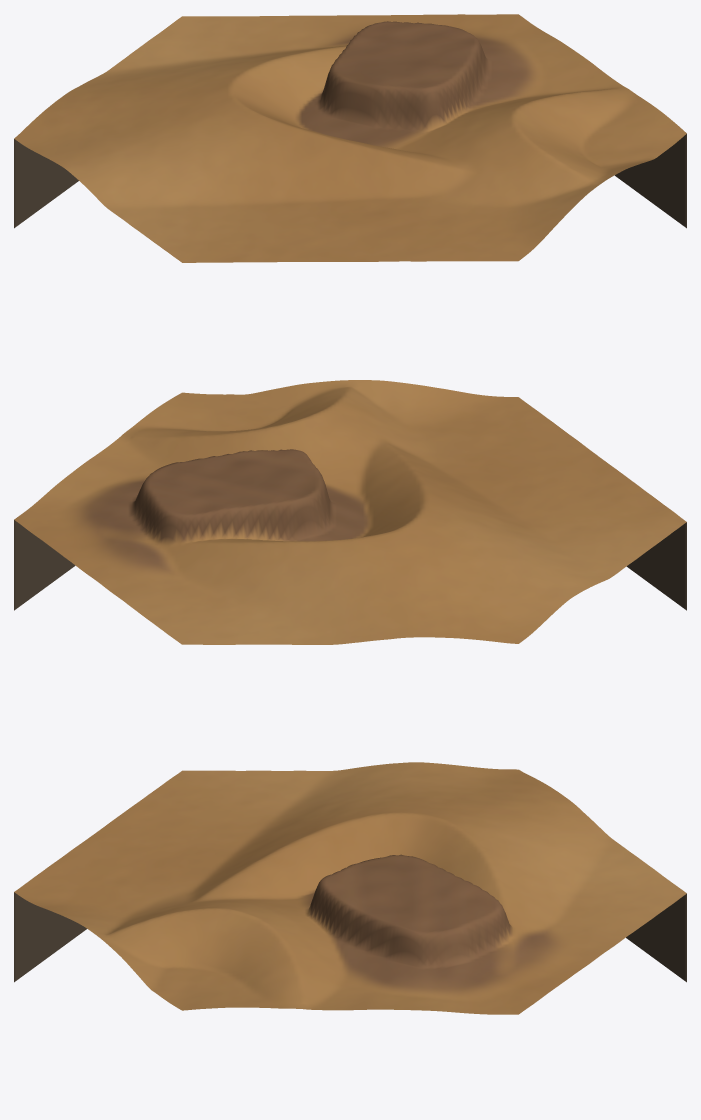
3 views of the same model, one above another, from view 1: azimuth 30°, elevation 25°; view 2: azimuth 150°, elevation 25°; view 3: azimuth 270°, elevation 25° (orthographic).
Parts seen in each view (by area): view 1: terrain, hex_side_cut; view 2: terrain, hex_side_cut; view 3: terrain, hex_side_cut.
Part boxes in pixels (x1,y1,x2,y2): terrain: (14, 14, 686, 262); hex_side_cut: (14, 134, 686, 228); terrain: (14, 380, 686, 644); hex_side_cut: (14, 520, 686, 610); terrain: (14, 762, 686, 1014); hex_side_cut: (14, 892, 686, 982).
Bounding box in the file's own units: 4330 × 1102 × 5000.
